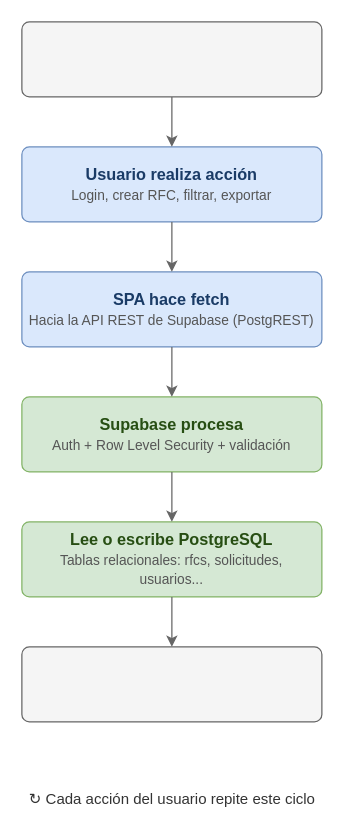
Some shapes in this 344 by 836 pixel diagram are drawn without their labels. Here are the shapes that lost their labels. From the top down, the centre of each, then its label:
(x=171, y=59): Usuario abre ATLAS SPA servida por GitHub Pages
(x=171, y=684): Respuesta JSON La UI se actualiza con el resultado
